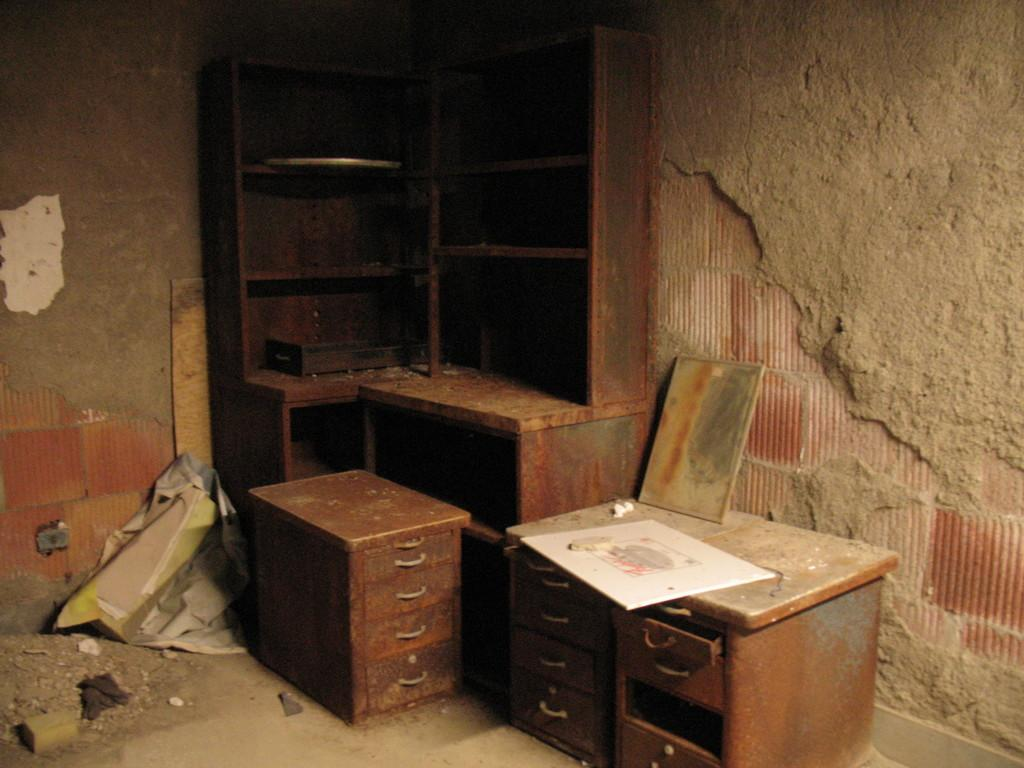cabinet_door: (632, 658, 726, 706), (530, 632, 604, 686), (626, 722, 706, 768), (372, 572, 454, 614), (380, 650, 458, 694), (624, 621, 710, 660), (372, 538, 454, 577), (521, 682, 591, 726), (519, 600, 600, 634), (388, 610, 452, 648)
handle: (530, 695, 570, 720), (536, 606, 574, 632), (655, 660, 692, 685), (387, 546, 428, 568), (542, 658, 580, 680), (397, 669, 433, 692), (395, 584, 429, 606), (396, 622, 426, 643), (646, 632, 668, 652)
